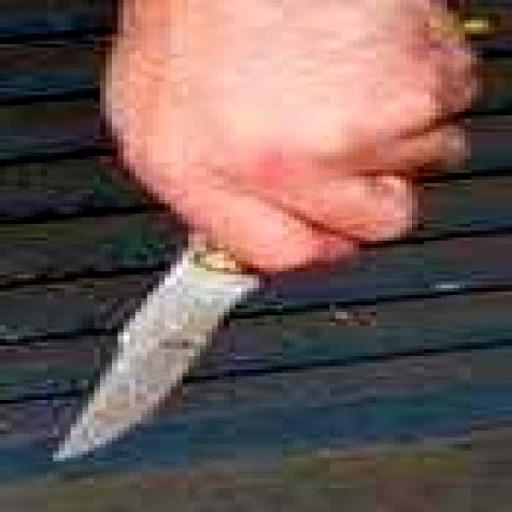knife: (49, 80, 361, 474)
